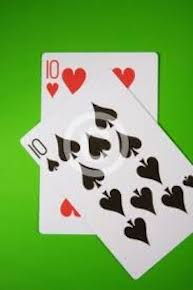TenOfHearts: (29, 43, 172, 111)
TenOfSpades: (11, 107, 193, 200)
